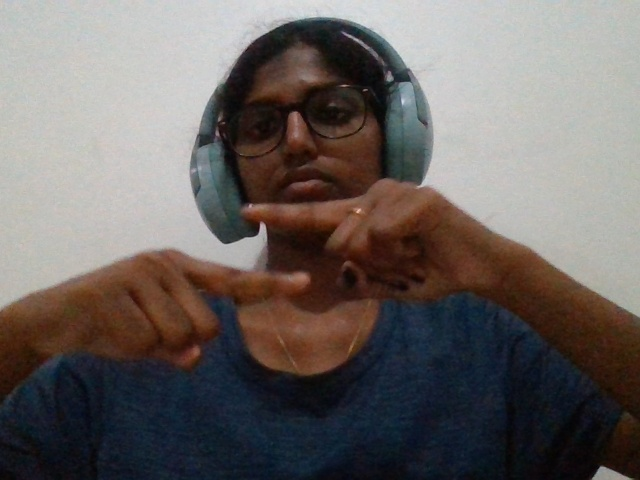Sign: (28, 149, 549, 434)
